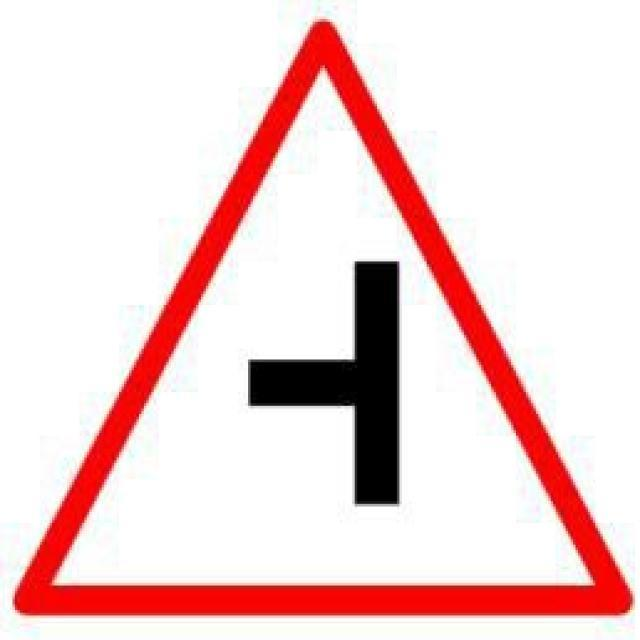side road left: (17, 16, 626, 617)
